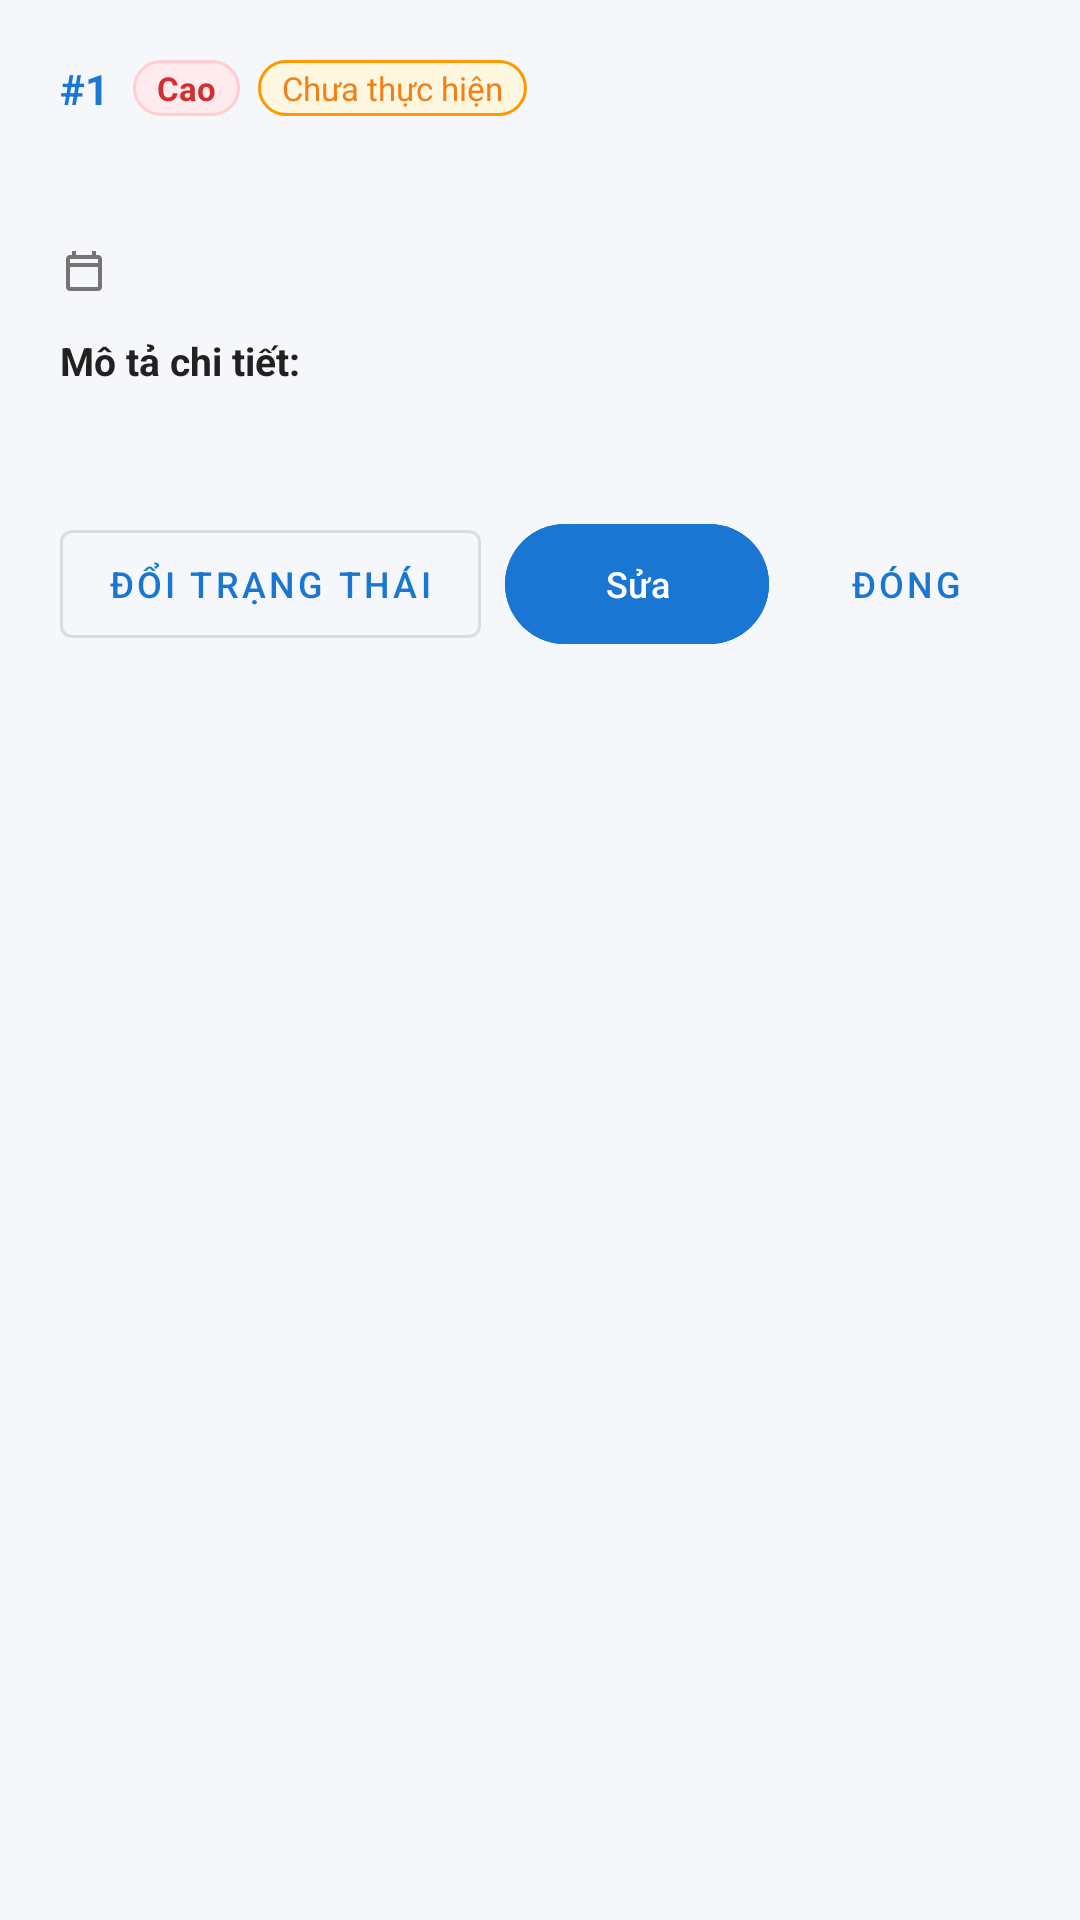

Screen size 1080*1920. Icon name, then its box in pixels as rect(x1, y1, x2, y2):
Hạn chót: rect(66, 251, 102, 291)
